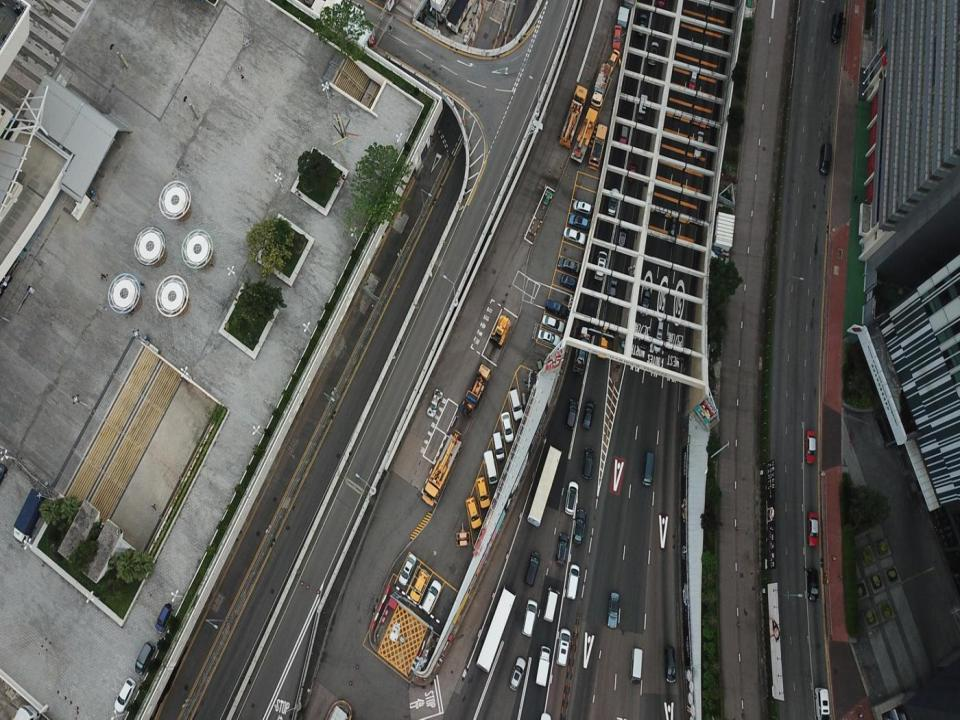bus: (476, 585, 516, 672), (527, 444, 562, 526), (642, 452, 654, 486), (637, 93, 648, 120)
car: (114, 678, 136, 713), (398, 553, 417, 585), (426, 388, 443, 418), (538, 328, 561, 348), (563, 226, 586, 245), (807, 511, 819, 546), (500, 410, 513, 442), (608, 591, 619, 628), (582, 399, 595, 430), (542, 314, 564, 332), (604, 49, 620, 73), (805, 430, 816, 464), (607, 187, 619, 216), (572, 199, 592, 216), (668, 214, 679, 242), (693, 131, 704, 159), (568, 215, 589, 229), (636, 12, 648, 36), (560, 274, 576, 291), (612, 25, 622, 50), (688, 68, 698, 92), (627, 161, 637, 183), (620, 123, 629, 147), (607, 278, 618, 297)
truck: (422, 428, 462, 506), (12, 487, 49, 545), (560, 85, 588, 148), (460, 363, 490, 419), (570, 107, 598, 163), (590, 63, 612, 111), (572, 325, 591, 375), (588, 124, 607, 172), (534, 645, 550, 685)
van: (134, 642, 155, 676), (422, 579, 441, 615), (410, 568, 429, 602), (543, 586, 560, 623), (556, 628, 571, 666), (571, 508, 586, 546), (522, 599, 537, 636), (508, 388, 524, 422), (510, 656, 526, 690), (524, 552, 540, 586), (155, 602, 173, 632), (465, 496, 481, 528), (814, 687, 830, 719), (630, 646, 643, 684), (567, 563, 580, 600), (475, 476, 490, 508), (545, 298, 569, 317), (484, 450, 497, 484), (807, 568, 820, 602), (556, 532, 569, 566), (565, 480, 578, 514), (581, 446, 594, 479), (597, 325, 609, 359), (665, 646, 676, 683), (566, 397, 578, 430), (819, 144, 832, 174), (654, 320, 665, 354), (594, 252, 607, 280), (558, 257, 580, 273), (492, 432, 504, 461), (831, 12, 842, 42), (647, 42, 660, 66), (639, 290, 650, 317), (616, 224, 628, 248)
